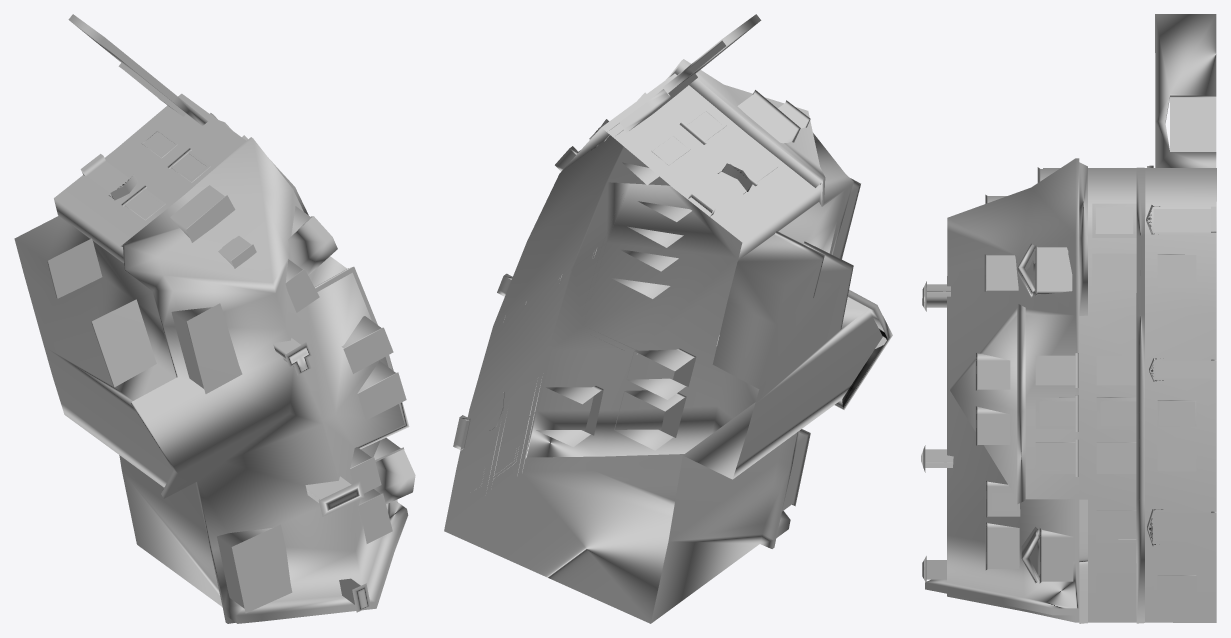
Rendered from Nunne_7.obj.
The picture shows the model from 3 angles, left to right: view 1: azimuth 30°, elevation 25°; view 2: azimuth 150°, elevation 25°; view 3: azimuth 270°, elevation 25°; orthographic projection. The views are drawn at different scales.
Parts seen in each view (by area): view 1: (null); view 2: (null); view 3: (null).
Part boxes in pixels (left/top/right/bottom): (null): left=14, top=14, right=415, bottom=623; (null): left=444, top=14, right=892, bottom=623; (null): left=921, top=14, right=1216, bottom=623.
Bounding box in the file's own units: 18.36 × 30.56 × 15.46.
